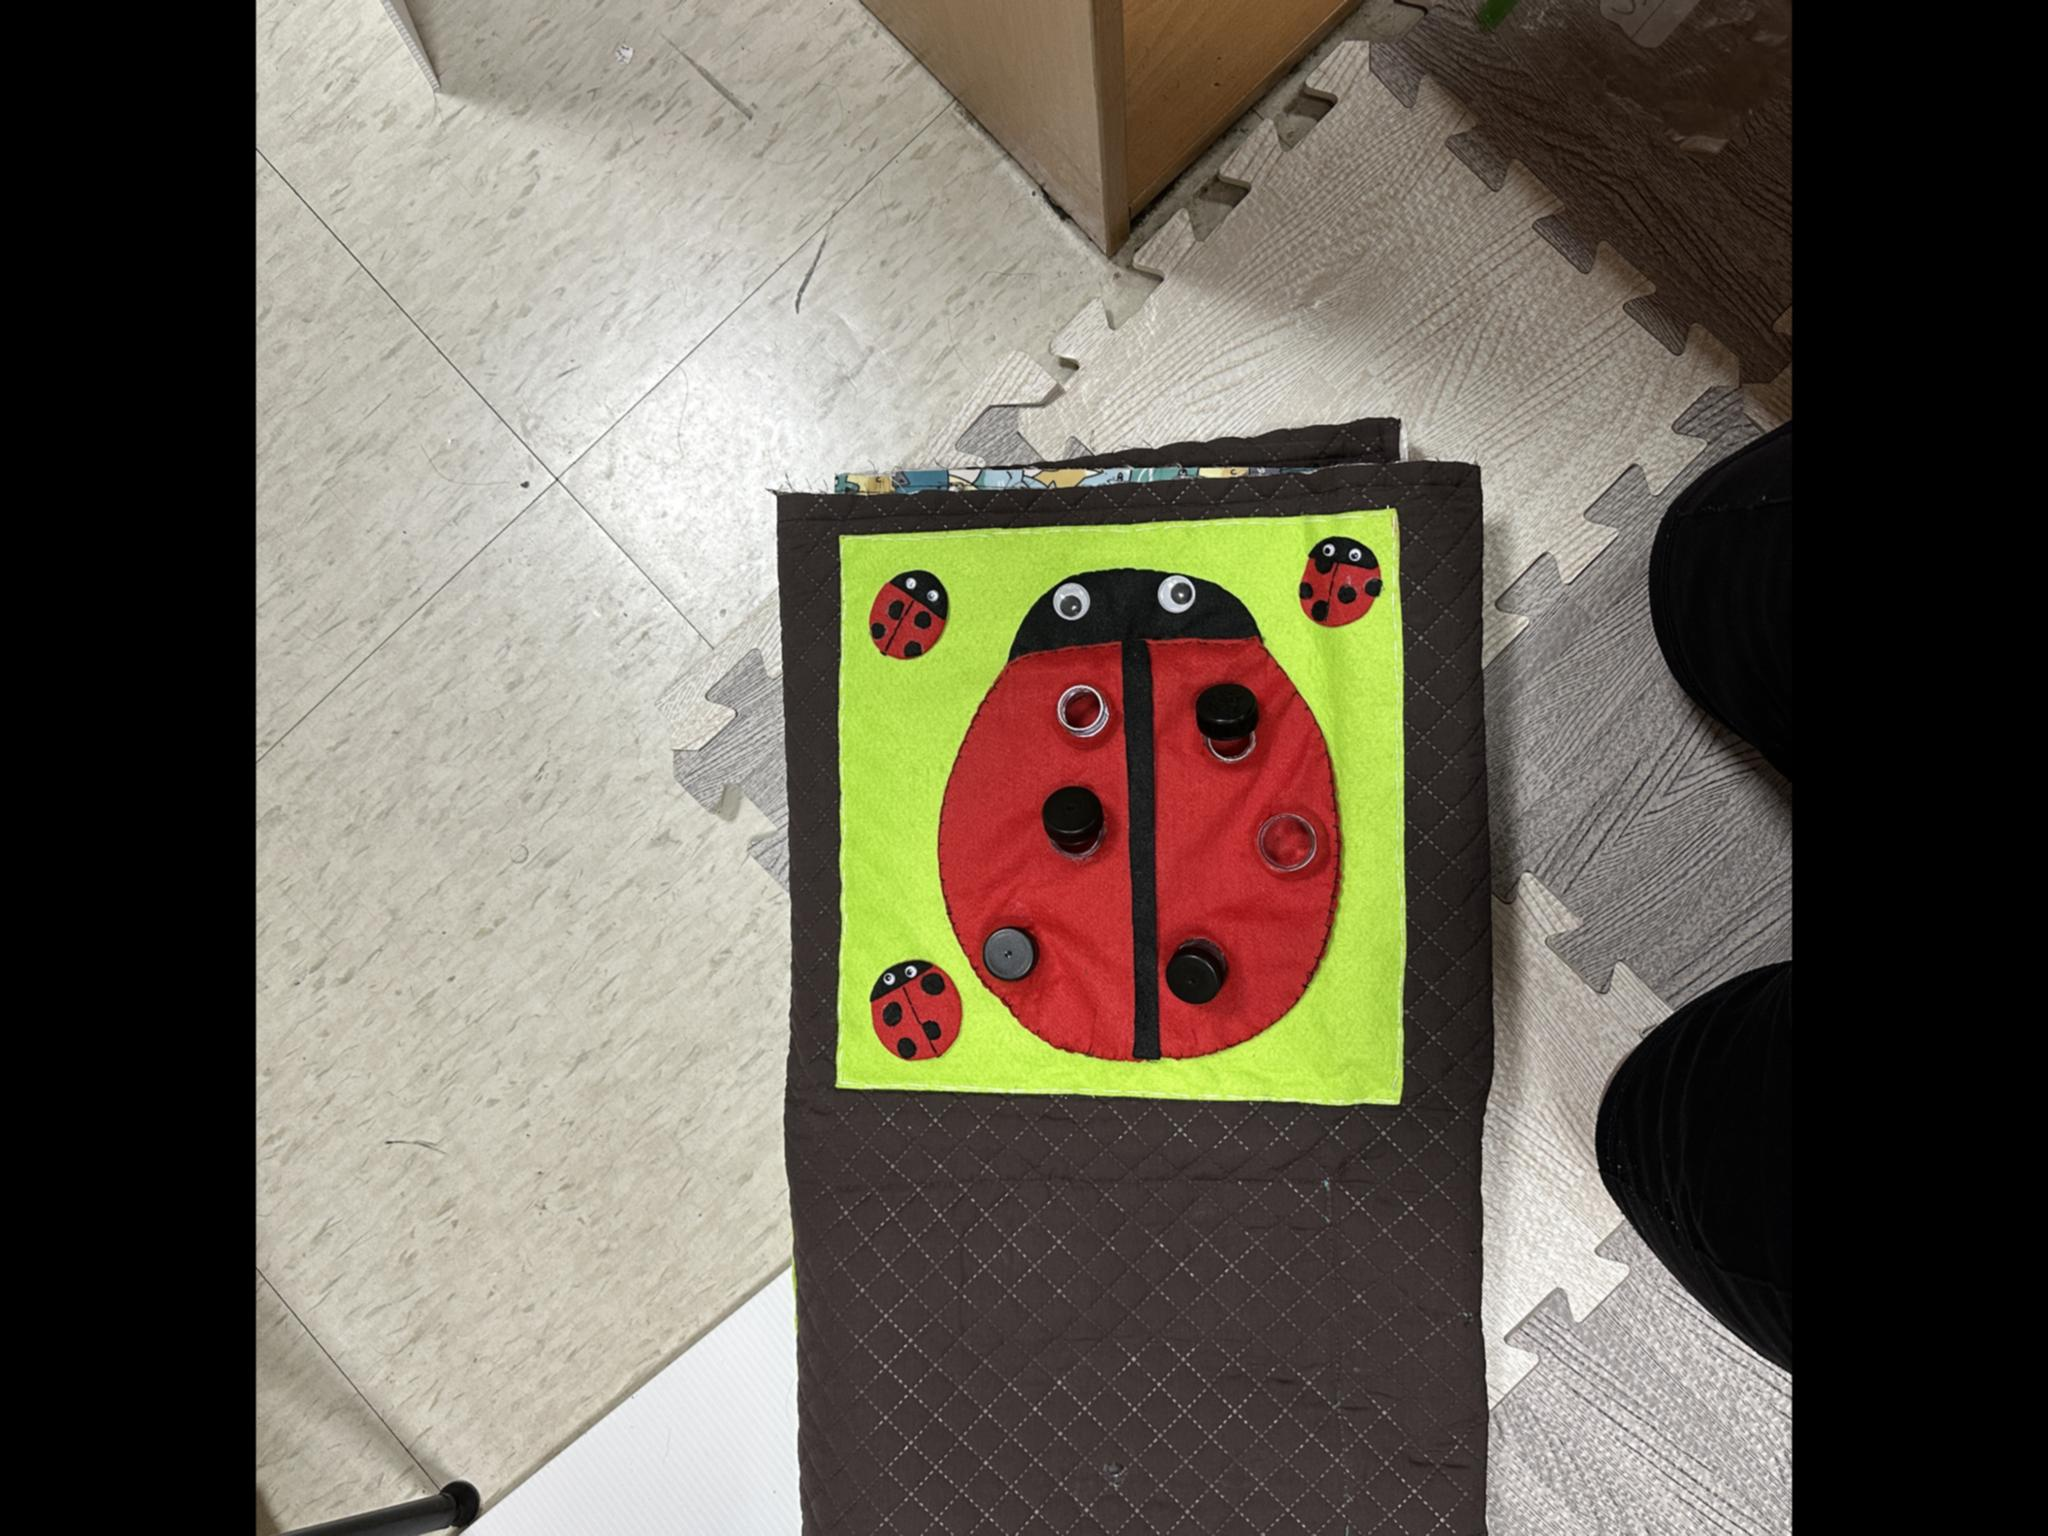cap_ng: (1032, 777, 1116, 875), (1190, 684, 1274, 778)
cap_ok: (1161, 923, 1243, 1015), (972, 915, 1058, 1000)
